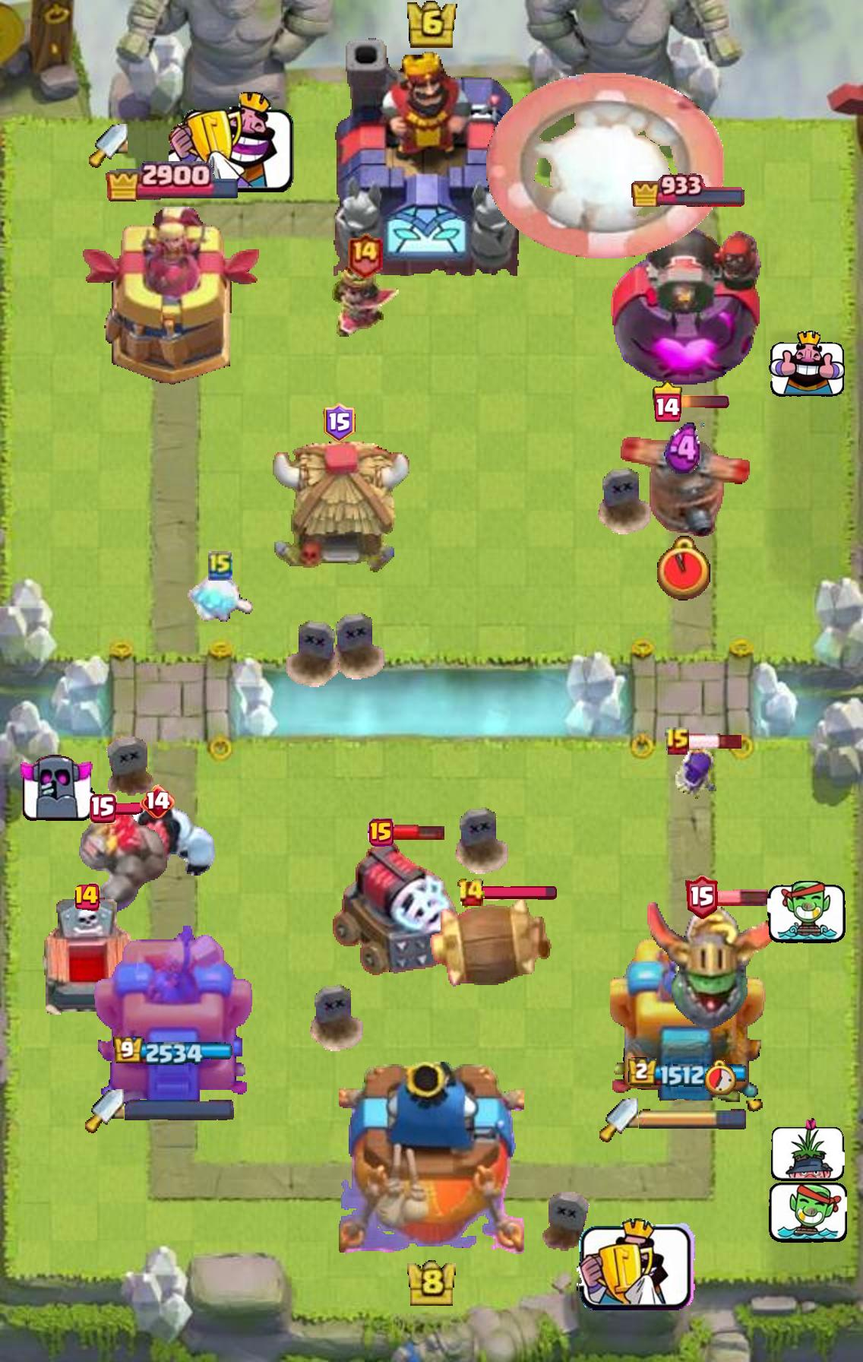elixir: (664, 423, 704, 477)
ice-spirit: (187, 574, 254, 626)
